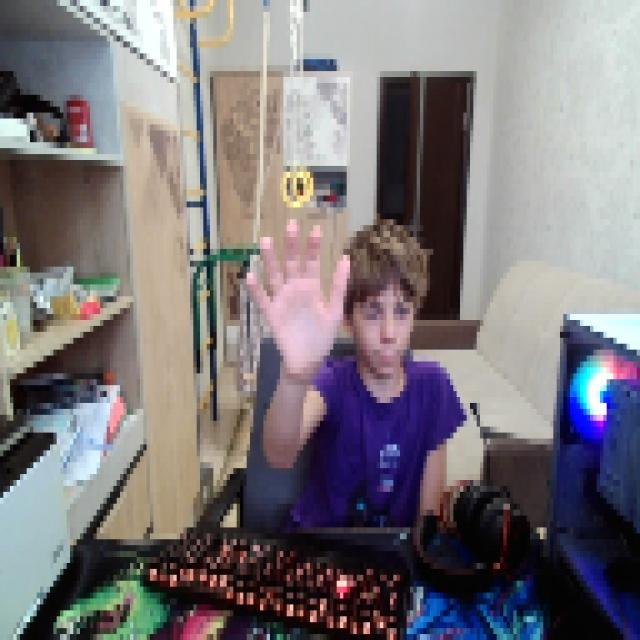hand: (240, 208, 347, 374)
